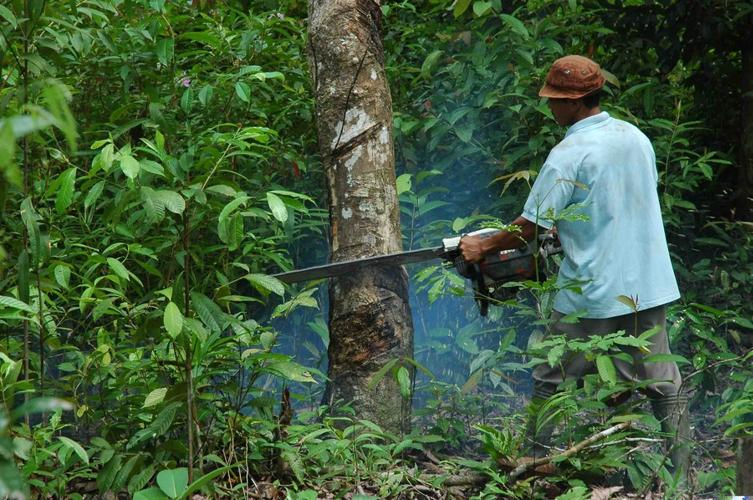person: (446, 54, 696, 481)
